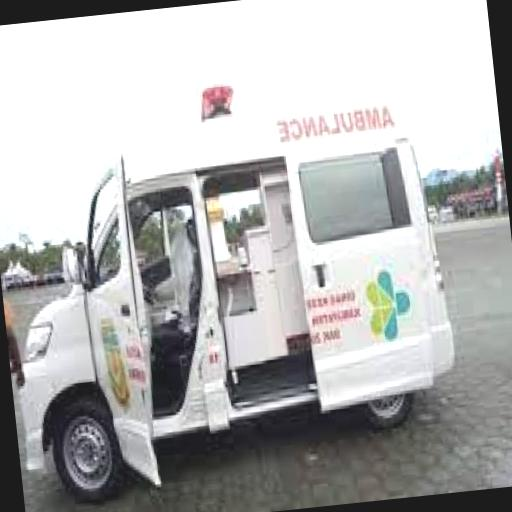Police car: (0, 81, 469, 508)
